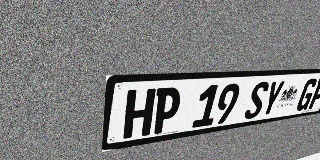1: (192, 84, 222, 128)
9: (213, 83, 242, 125)
G: (294, 78, 319, 112)
H: (123, 88, 156, 139)
P: (150, 87, 183, 135), (306, 78, 320, 110)
S: (243, 81, 271, 120)
Y: (259, 80, 286, 117)
